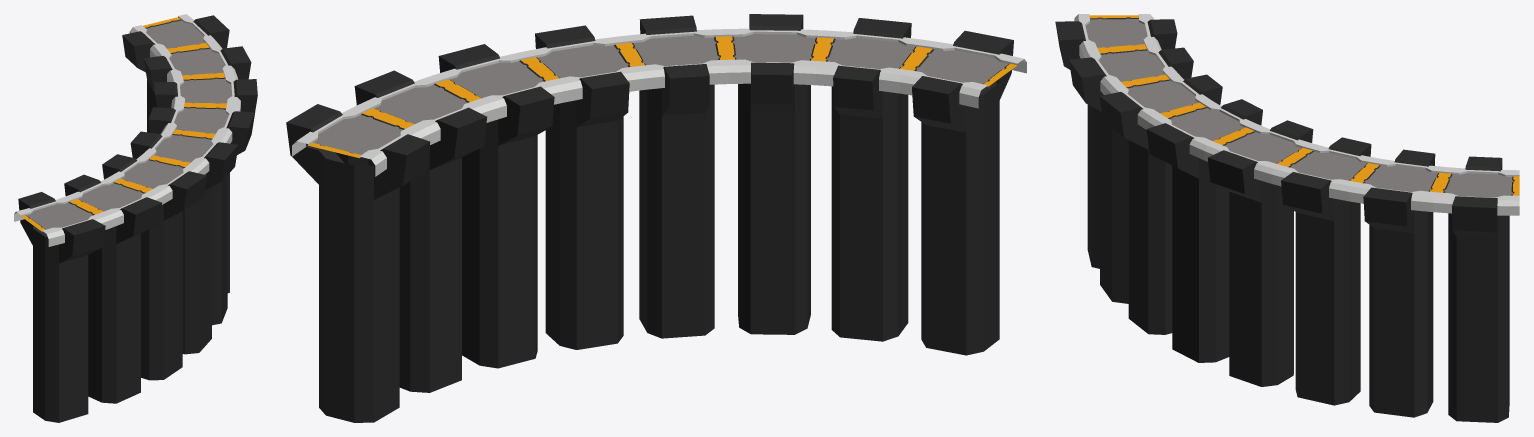
Rendered from road_bend_type_02.fbx.
3 renders of one model, left to right at view 1: azimuth 30°, elevation 25°; view 2: azimuth 150°, elevation 25°; view 3: azimuth 270°, elevation 25°, orthographic. The views are drawn at different scales.
Visible parts, largest first — view 1: road_bend_type_02; view 2: road_bend_type_02; view 3: road_bend_type_02.
Boxes of the visible parts, left/top/right/bottom form: road_bend_type_02: left=14, top=14, right=257, bottom=422; road_bend_type_02: left=286, top=14, right=1026, bottom=422; road_bend_type_02: left=1055, top=14, right=1519, bottom=422.
Bounding box in the file's own units: 1947 × 1057 × 1947.
1 material, 1 textured.
